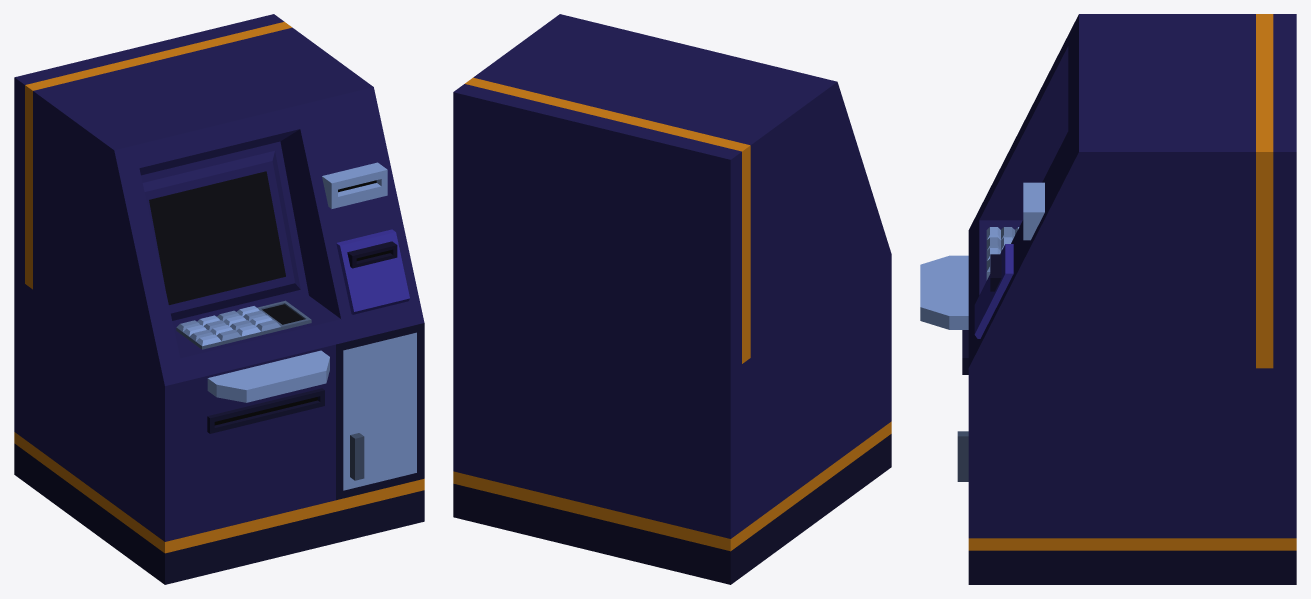
The model's file is ATM3.FBX.
3 views of the same model, side by side, from view 1: azimuth 30°, elevation 25°; view 2: azimuth 150°, elevation 25°; view 3: azimuth 270°, elevation 25° (orthographic). The views are drawn at different scales.
Visible parts, largest first — view 1: ATM3; view 2: ATM3; view 3: ATM3.
Part boxes in pixels (box(x1,y1,x2,y2)): ATM3: box(14, 14, 424, 584); ATM3: box(453, 14, 891, 584); ATM3: box(920, 14, 1296, 584).
Bounding box in the file's own units: 9.89 × 14.47 × 11.39.
